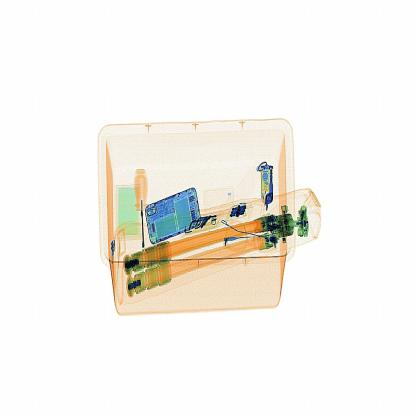wrench: (130, 151, 154, 258)
